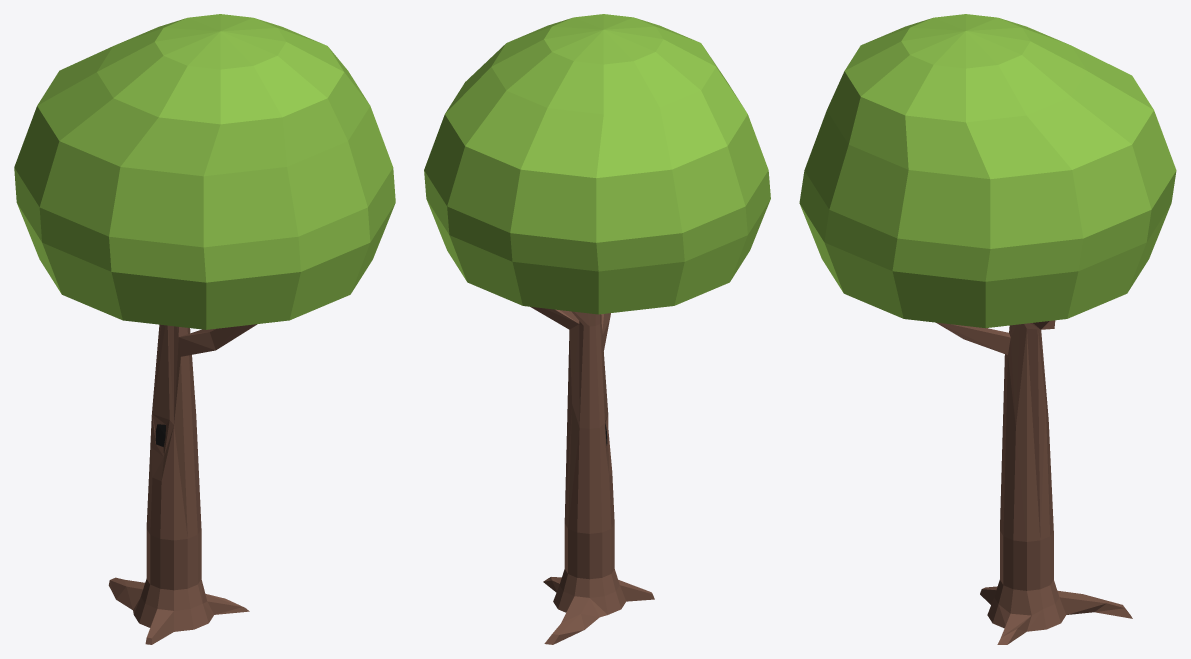
File: a-simple-tree.glb
3 views of the same model, side by side, from view 1: azimuth 30°, elevation 25°; view 2: azimuth 150°, elevation 25°; view 3: azimuth 270°, elevation 25° (orthographic). The views are drawn at different scales.
Parts seen in each view (by area): view 1: group1739489792, group1975193707; view 2: group1739489792, group1975193707; view 3: group1739489792, group1975193707.
Boxes of the visible parts, x1=… form: group1739489792: x1=14, y1=14, x2=395, y2=329; group1975193707: x1=108, y1=324, x2=257, y2=644; group1739489792: x1=424, y1=14, x2=770, y2=314; group1975193707: x1=530, y1=306, x2=654, y2=644; group1739489792: x1=799, y1=14, x2=1176, y2=328; group1975193707: x1=936, y1=320, x2=1132, y2=644.
Size of the model in its own units: 0.7583 by 1.34 by 0.7683.
